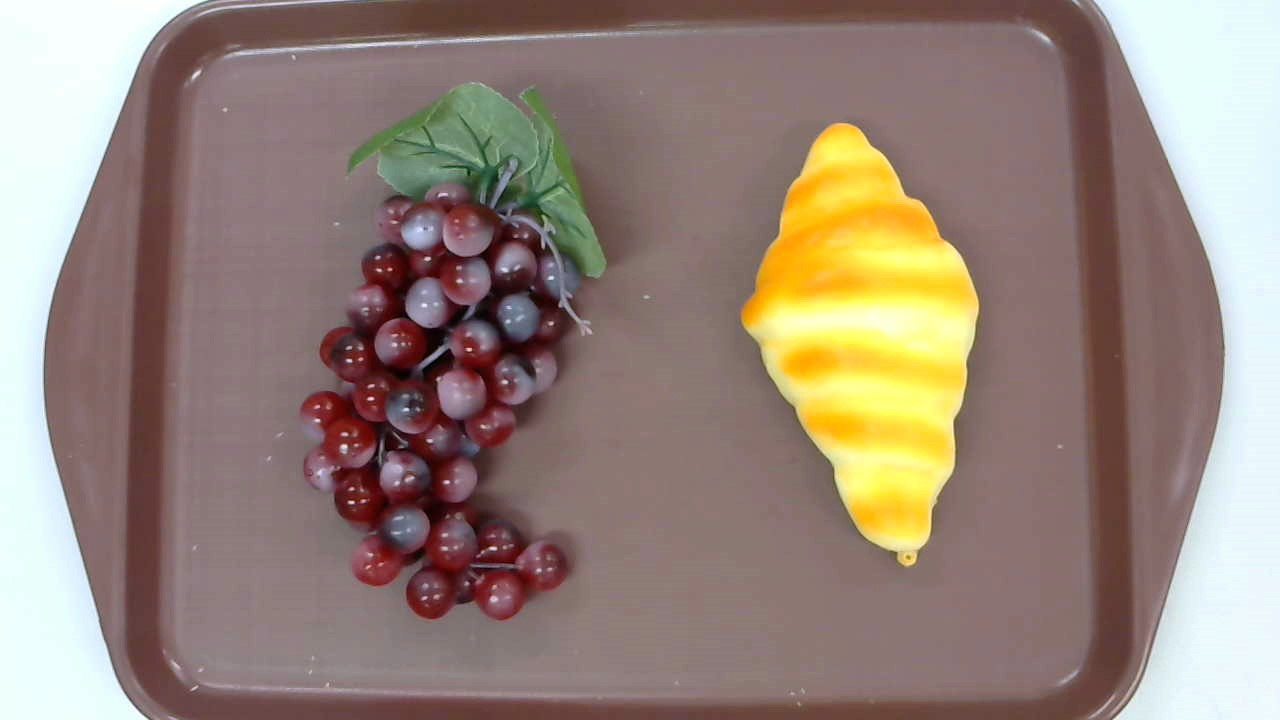croissant: (739, 122, 980, 566)
grape: (298, 81, 609, 623)
